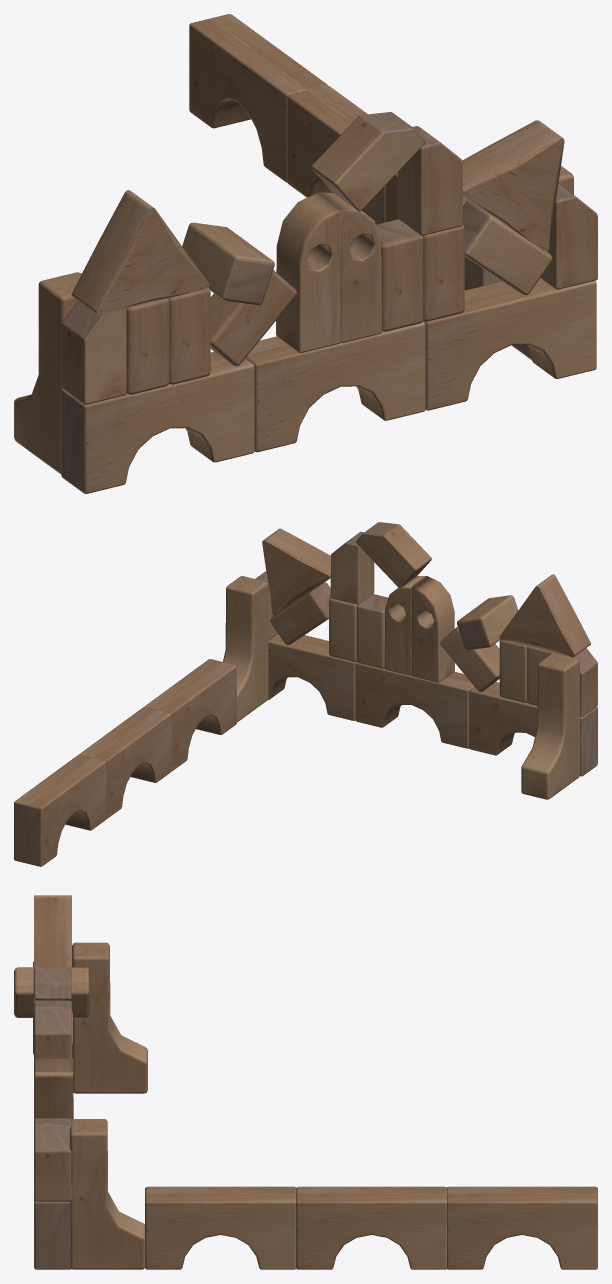
Rendered from wk7_meshMenuBlocks_Hockett_Elisha.fbx.
3 views of the same model, one above another, from view 1: azimuth 30°, elevation 25°; view 2: azimuth 150°, elevation 25°; view 3: azimuth 270°, elevation 25° (orthographic). The views are drawn at different scales.
Visible parts, largest first — view 1: obj_arch_block2, obj_arch_block1, obj_arch_block, obj_arch_block5, pCube1, obj_hole_block2, pCube2, obj_slant_block3, obj_L_block1, obj_slant_block, obj_arch_block4, obj_hole_block1 (+10 smaller); view 2: obj_arch_block5, obj_L_block1, obj_arch_block, obj_arch_block3, obj_arch_block4, obj_L_block, obj_arch_block1, obj_arch_block2, pCube1, obj_hole_block2, pCube2, obj_slant_block3 (+10 smaller); view 3: obj_arch_block3, obj_arch_block5, obj_arch_block4, obj_L_block, obj_L_block1, obj_slant_block1, pCube1, obj_arch_block1, pCube2, obj_slant_block2, obj_bevel_block7, obj_slant_block3.
Boxes of the visible parts, x1,y1,x2,y2 form: obj_arch_block2: [61, 352, 254, 493]; obj_arch_block1: [423, 278, 596, 410]; obj_arch_block: [245, 321, 425, 452]; obj_arch_block5: [189, 14, 327, 182]; pCube1: [71, 190, 209, 314]; obj_hole_block2: [276, 192, 340, 352]; pCube2: [462, 120, 564, 251]; obj_slant_block3: [311, 112, 425, 211]; obj_L_block1: [14, 272, 81, 473]; obj_slant_block: [61, 301, 126, 404]; obj_arch_block4: [287, 85, 385, 224]; obj_hole_block1: [317, 192, 381, 343]; obj_arch_block5: [14, 754, 106, 866]; obj_L_block1: [521, 653, 579, 799]; obj_arch_block: [355, 662, 474, 748]; obj_arch_block3: [145, 659, 236, 771]; obj_arch_block4: [79, 707, 171, 818]; obj_L_block: [223, 576, 268, 722]; obj_arch_block1: [268, 634, 356, 720]; obj_arch_block2: [469, 682, 597, 776]; pCube1: [499, 574, 590, 657]; obj_hole_block2: [411, 576, 454, 682]; pCube2: [262, 528, 330, 615]; obj_slant_block3: [356, 522, 431, 587]; obj_arch_block3: [145, 1186, 296, 1269]; obj_arch_block5: [447, 1186, 597, 1269]; obj_arch_block4: [296, 1186, 446, 1269]; obj_L_block: [69, 1119, 145, 1269]; obj_L_block1: [72, 942, 147, 1093]; obj_slant_block1: [34, 1118, 71, 1201]; pCube1: [34, 895, 71, 967]; obj_arch_block1: [34, 1200, 70, 1269]; pCube2: [35, 1058, 73, 1118]; obj_slant_block2: [34, 1001, 71, 1083]; obj_bevel_block7: [14, 967, 89, 1017]; obj_slant_block3: [33, 967, 71, 1013].
Bounding box in the file's own units: 42.09 × 22.72 × 53.9.
